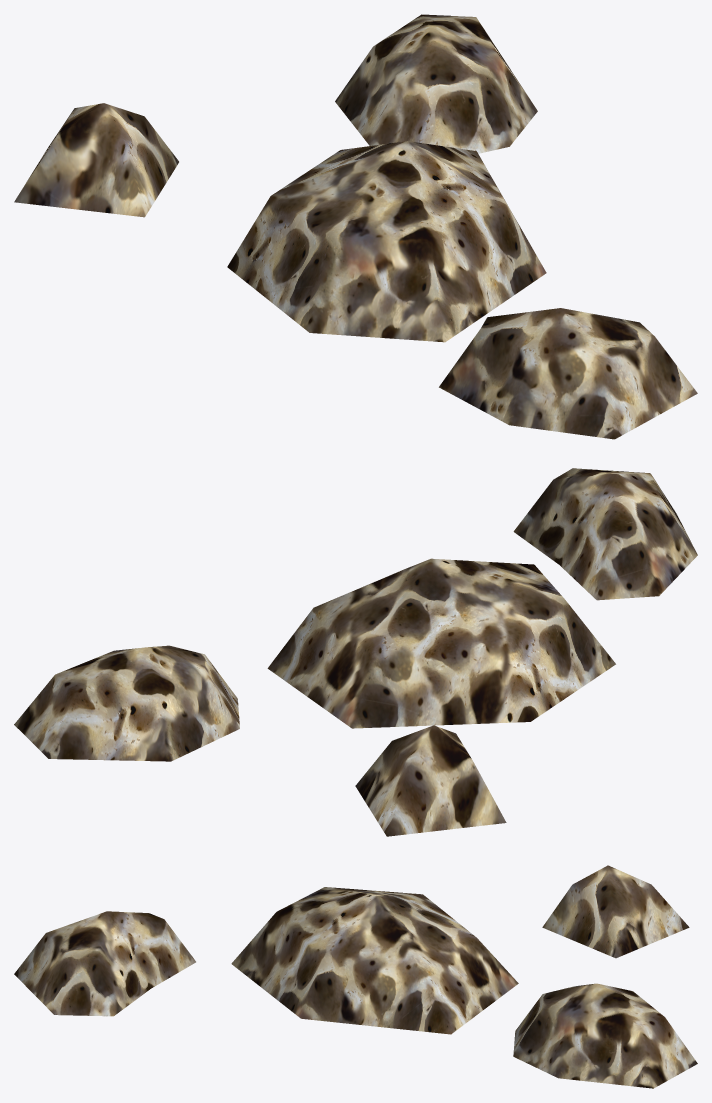
The model's file is CoralStone-04_LOD1.fbx.
3 views of the same model, one above another, from view 1: azimuth 30°, elevation 25°; view 2: azimuth 150°, elevation 25°; view 3: azimuth 270°, elevation 25° (orthographic). The views are drawn at different scales.
Visible parts, largest first — view 1: CoralStone-04_medium; view 2: CoralStone-04_medium; view 3: CoralStone-04_medium.
Boxes of the visible parts, x1,y1,x2,y2 form: CoralStone-04_medium: [14, 14, 697, 439]; CoralStone-04_medium: [14, 468, 697, 836]; CoralStone-04_medium: [14, 865, 697, 1088].
Size of the model in its own units: 0.3371 by 0.0733 by 0.5075.
